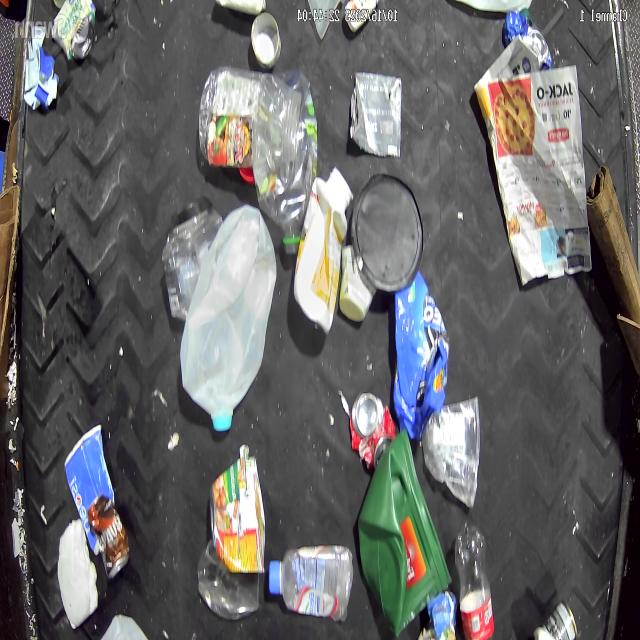can: (350, 390, 393, 473), (249, 9, 281, 72), (534, 598, 578, 639)
milk_jug: (181, 201, 277, 435)
non_white_jug: (357, 428, 446, 636), (294, 168, 352, 334), (391, 270, 448, 437)
plastic_bottle: (252, 68, 317, 251), (271, 542, 354, 622), (454, 517, 496, 639)
